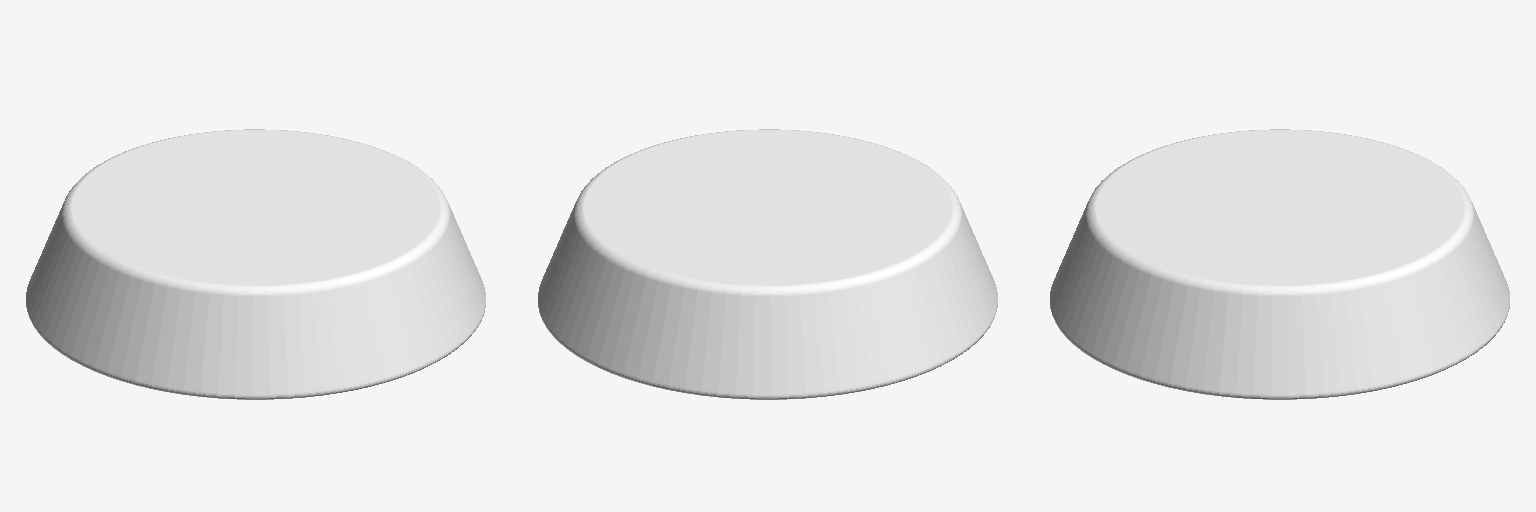
File: button-object.obj
3 views of the same model, side by side, from view 1: azimuth 30°, elevation 25°; view 2: azimuth 150°, elevation 25°; view 3: azimuth 270°, elevation 25° (orthographic).
Parts seen in each view (by area): view 1: Cylinder_Material.002; view 2: Cylinder_Material.002; view 3: Cylinder_Material.002.
Part boxes in pixels (bbox=[...]): Cylinder_Material.002: bbox=[26, 129, 485, 399]; Cylinder_Material.002: bbox=[538, 129, 997, 399]; Cylinder_Material.002: bbox=[1050, 129, 1509, 399].
Bounding box in the file's own units: 0.5936 × 0.1369 × 0.594.